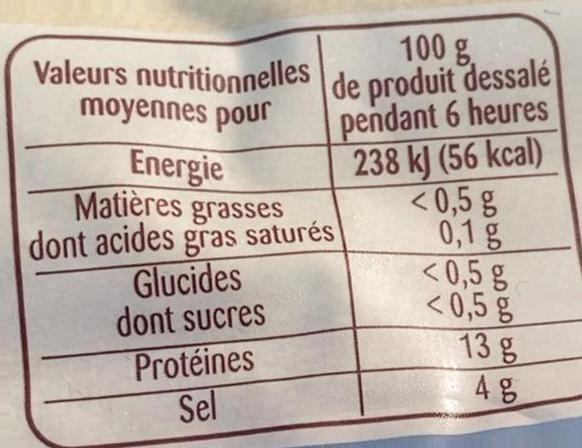column: (27, 36, 332, 425), (337, 36, 552, 405)
line: (32, 38, 548, 136), (25, 378, 546, 420), (38, 145, 547, 180), (38, 339, 545, 371), (38, 189, 544, 218), (29, 224, 545, 251), (30, 268, 547, 291), (32, 303, 545, 324)
table: (10, 27, 582, 438)
